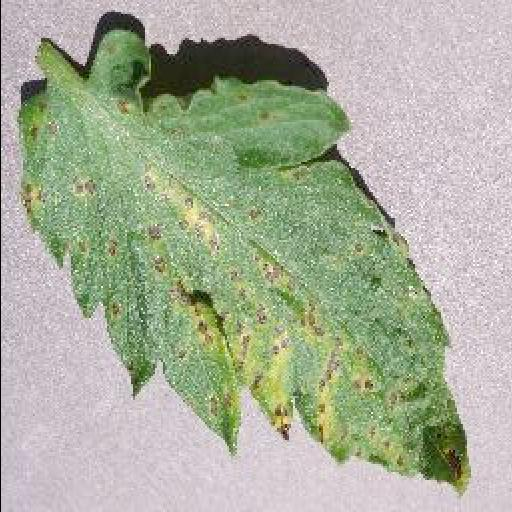disease_tomato: (12, 28, 470, 494)
